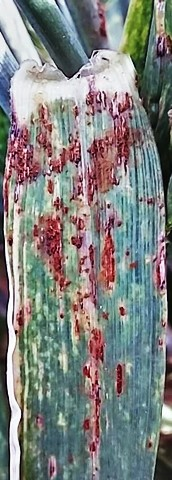Leaf Rust: (3, 84, 163, 407)
